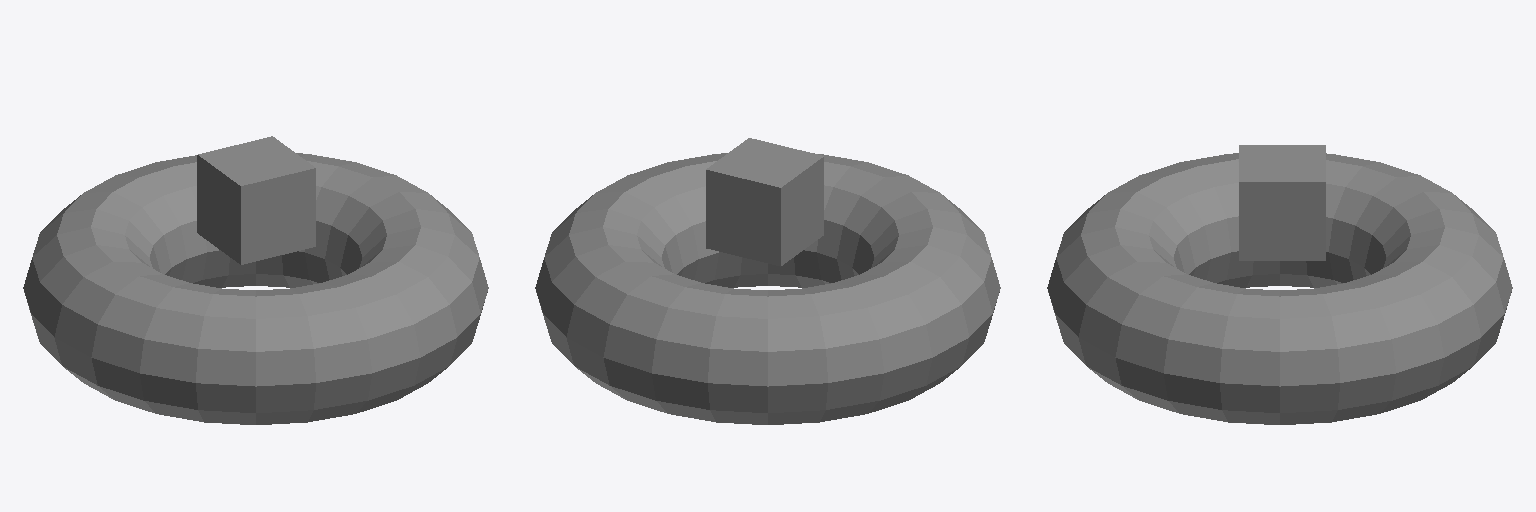
File: torusbox.obj
The picture shows the model from 3 angles: view 1: azimuth 30°, elevation 25°; view 2: azimuth 150°, elevation 25°; view 3: azimuth 270°, elevation 25°; orthographic projection.
Parts seen in each view (by area): view 1: Torus001, Box001; view 2: Torus001, Box001; view 3: Torus001, Box001.
Part boxes in pixels (bbox=[...]): Torus001: bbox=[23, 153, 488, 424]; Box001: bbox=[197, 136, 315, 264]; Torus001: bbox=[535, 153, 1000, 424]; Box001: bbox=[706, 138, 823, 266]; Torus001: bbox=[1047, 153, 1512, 424]; Box001: bbox=[1239, 145, 1325, 260].
Bounding box in the file's own units: 53.56 × 23.74 × 53.56.